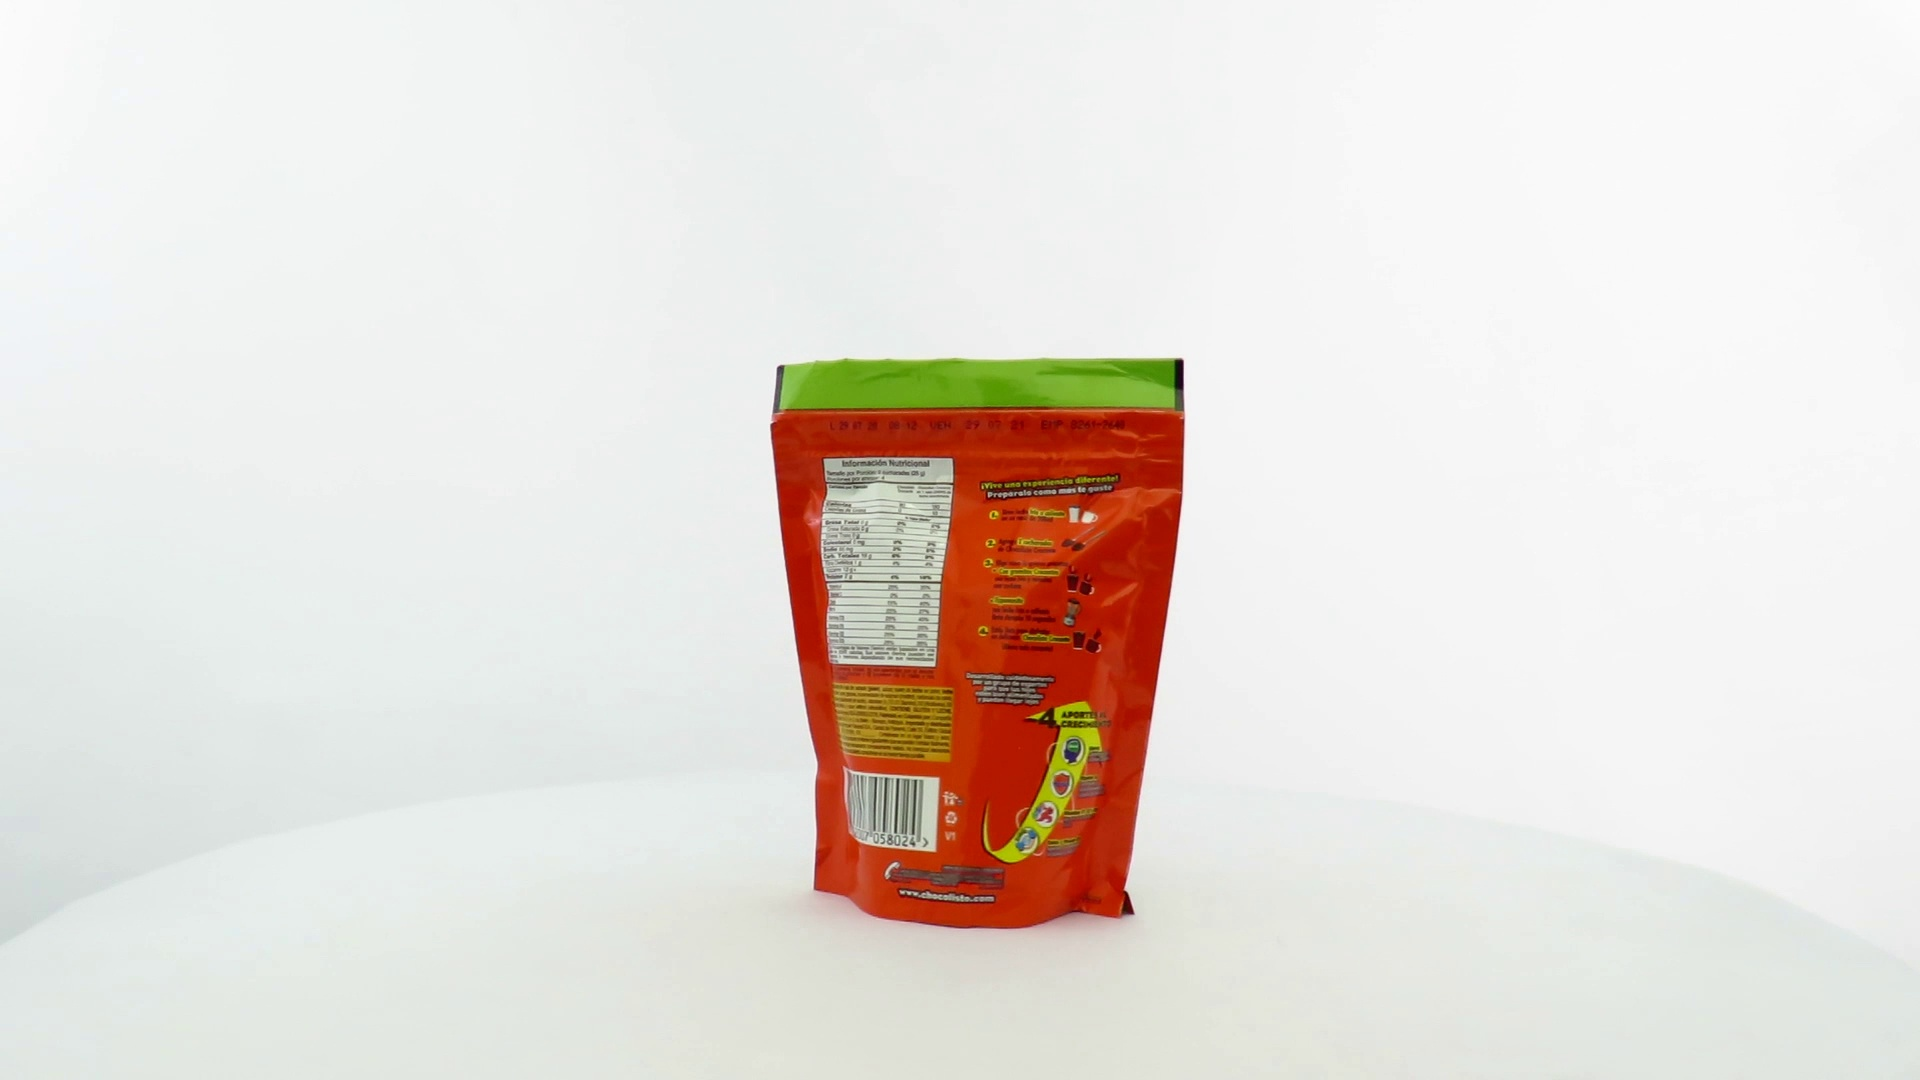COL0170102DYP10000: (765, 352, 1191, 935)
